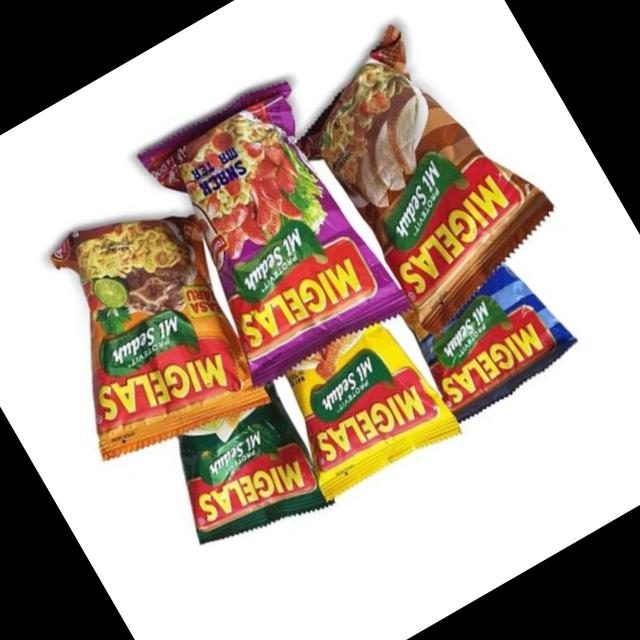KemasanPlastik: (271, 4, 580, 349), (132, 72, 413, 394), (0, 178, 279, 485), (258, 299, 470, 509), (384, 230, 590, 432), (144, 372, 344, 572)
